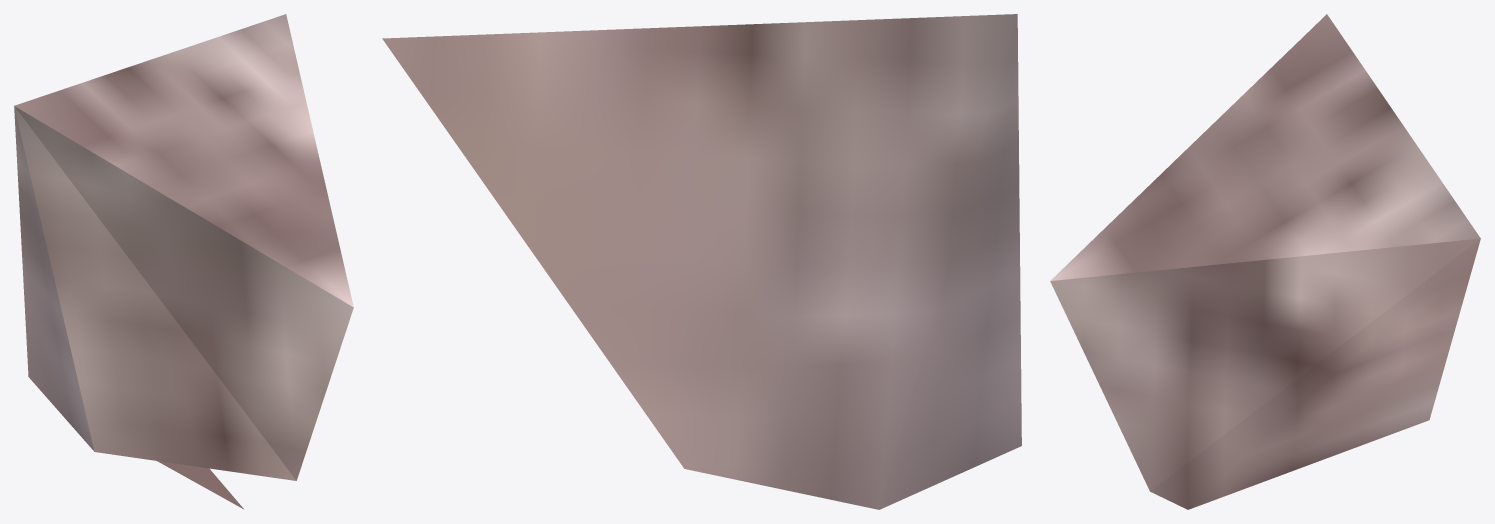
3 views of the same model, side by side, from view 1: azimuth 30°, elevation 25°; view 2: azimuth 150°, elevation 25°; view 3: azimuth 270°, elevation 25° (orthographic). The views are drawn at different scales.
Parts seen in each view (by area): view 1: Mesh_0; view 2: Mesh_0; view 3: Mesh_0.
Part boxes in pixels (<box>): Mesh_0: <box>14,14,353,509</box>; Mesh_0: <box>382,14,1021,509</box>; Mesh_0: <box>1050,14,1480,509</box>.
Bounding box in the file's own units: 1.81 × 1.97 × 1.87.
1 material, 1 textured.
